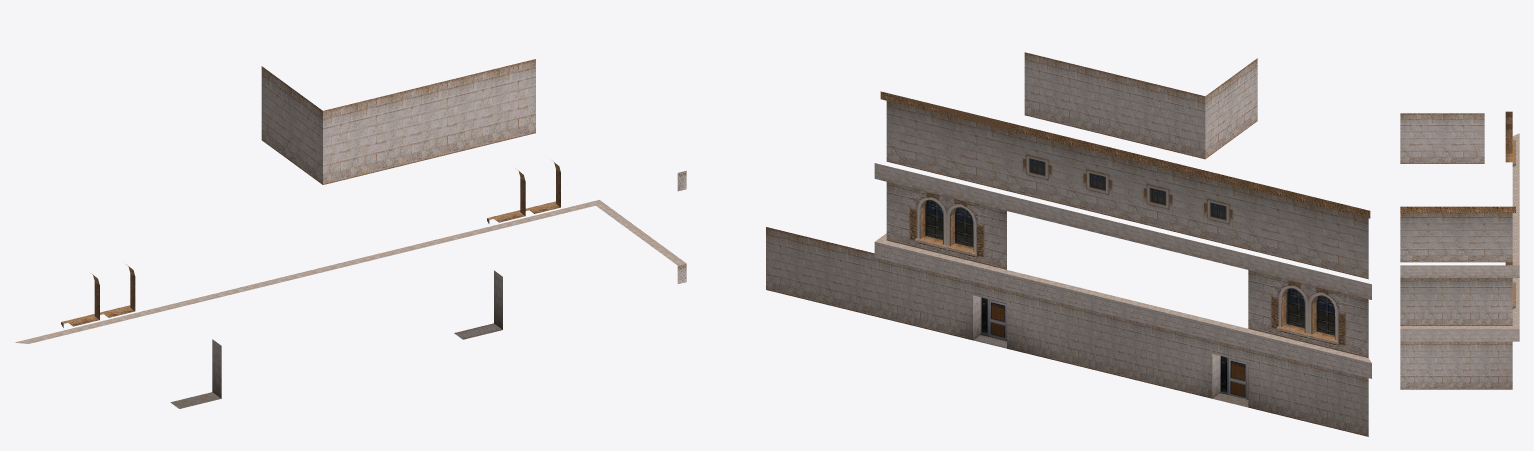
Rendered from M2Zone4_Building15_B.glb.
3 views of the same model, side by side, from view 1: azimuth 30°, elevation 25°; view 2: azimuth 150°, elevation 25°; view 3: azimuth 270°, elevation 25° (orthographic). The views are drawn at different scales.
Visible parts, largest first — view 1: M2ZONE4_BUILDING15_B; view 2: M2ZONE4_BUILDING15_B; view 3: M2ZONE4_BUILDING15_B.
Boxes of the visible parts, left/top/right/bottom form: M2ZONE4_BUILDING15_B: left=15, top=59, right=686, bottom=408; M2ZONE4_BUILDING15_B: left=766, top=52, right=1371, bottom=436; M2ZONE4_BUILDING15_B: left=1400, top=111, right=1519, bottom=389.
Size of the model in its own units: 40.5 by 18 by 8.5.
6 materials, 6 textured.
